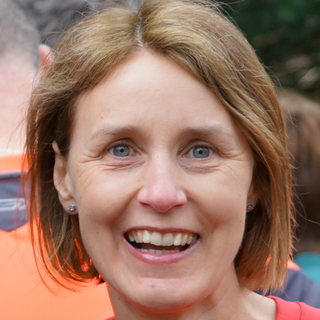eye: (97, 139, 144, 165), (177, 140, 225, 165)
